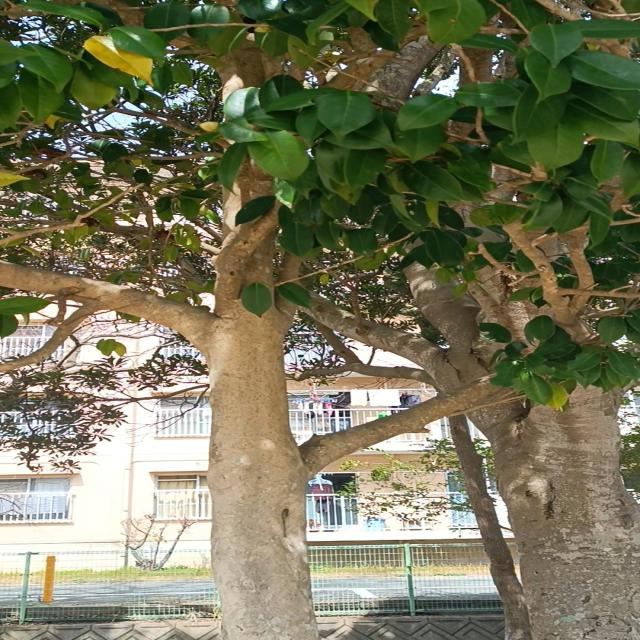Branch: (306, 307, 604, 467), (0, 261, 216, 350), (297, 289, 441, 370), (220, 152, 274, 303), (212, 190, 286, 299), (350, 361, 436, 386)
Twig: (1, 184, 139, 244), (503, 204, 575, 313), (1, 301, 108, 373), (568, 218, 598, 310), (313, 319, 363, 363), (288, 366, 348, 380), (562, 290, 640, 297)
